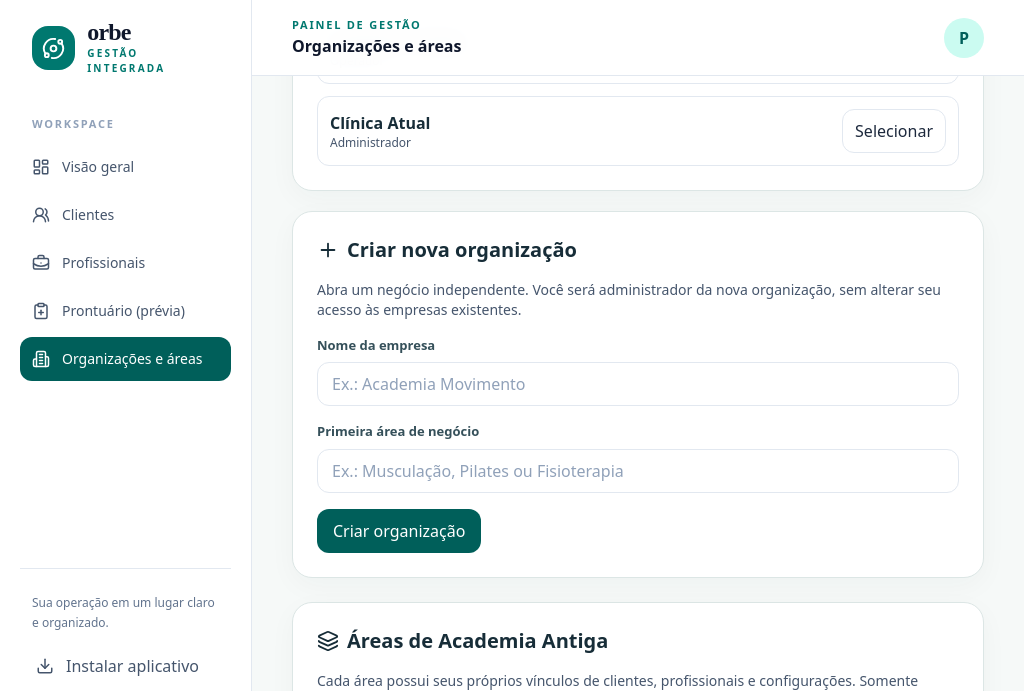
Organizações e áreas › mantém perfis separados e permite abrir outra organização sem cabeçalho de tenant
(page scrolled)
Check: the button "Adicionar área" is not shown
Type " Academia Nova " into the field labelled "Nome da empresa" at x=638, y=384, box [317, 362, 959, 406]
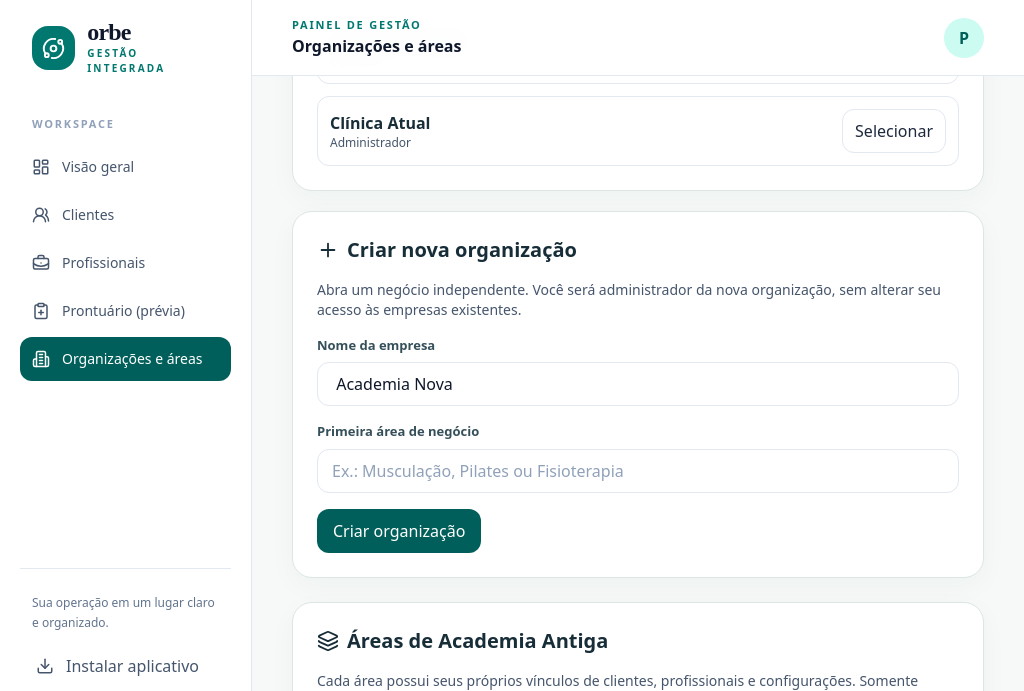
Type " Pilates " into the field labelled "Primeira área de negócio" at x=638, y=470, box [317, 448, 959, 492]
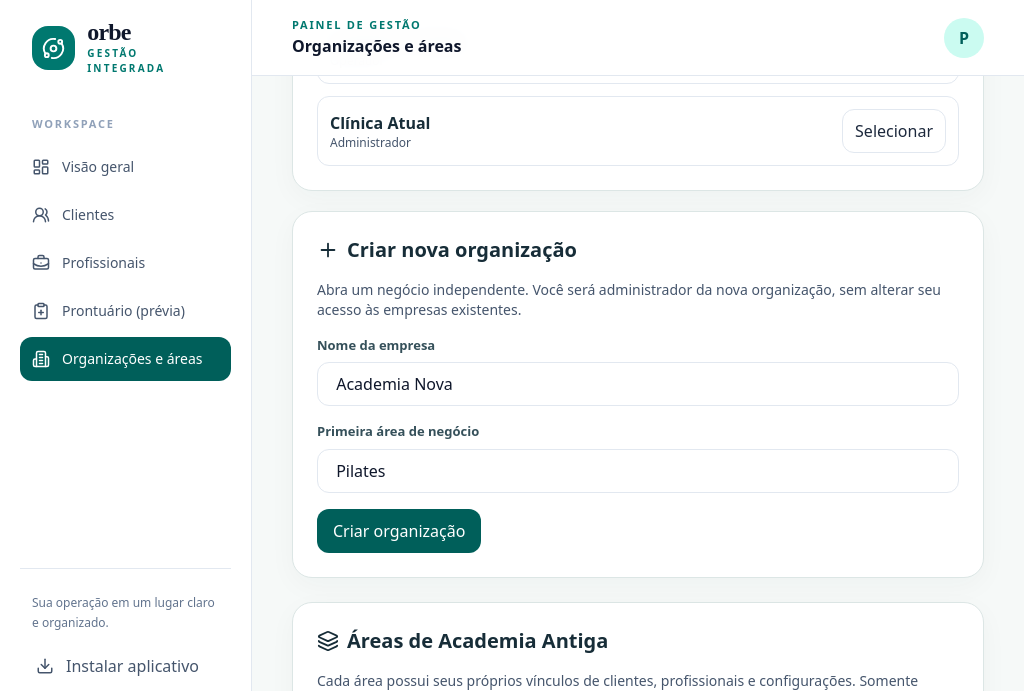
Click the button "Criar organização" at x=399, y=530, box [317, 508, 481, 552]
(page scrolled)
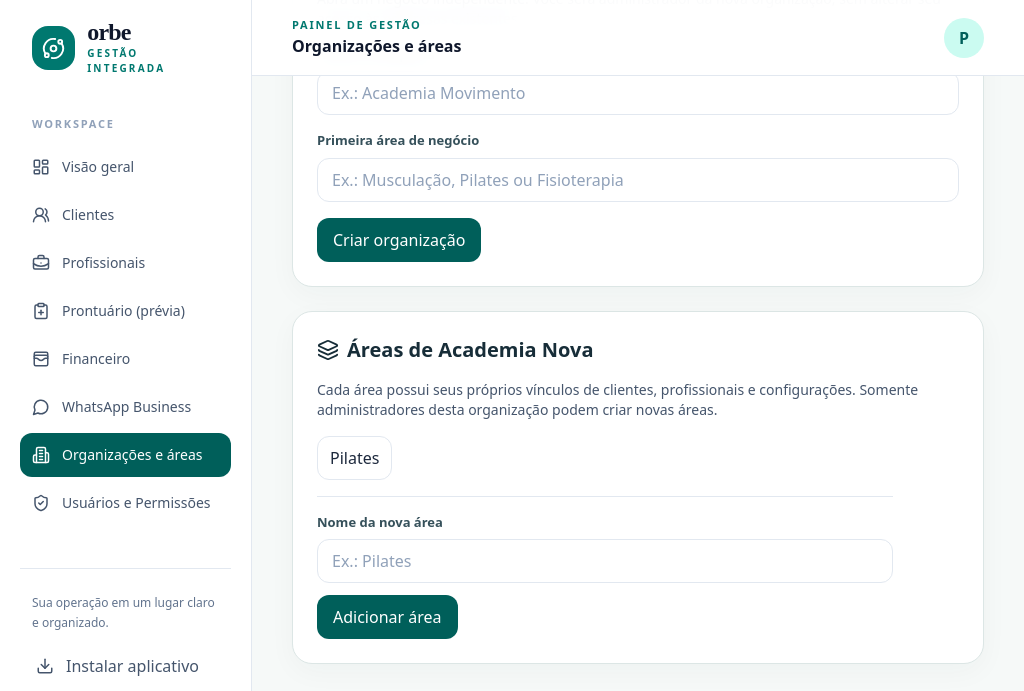
Check: the button "Adicionar área" is shown, box [317, 595, 458, 639]
